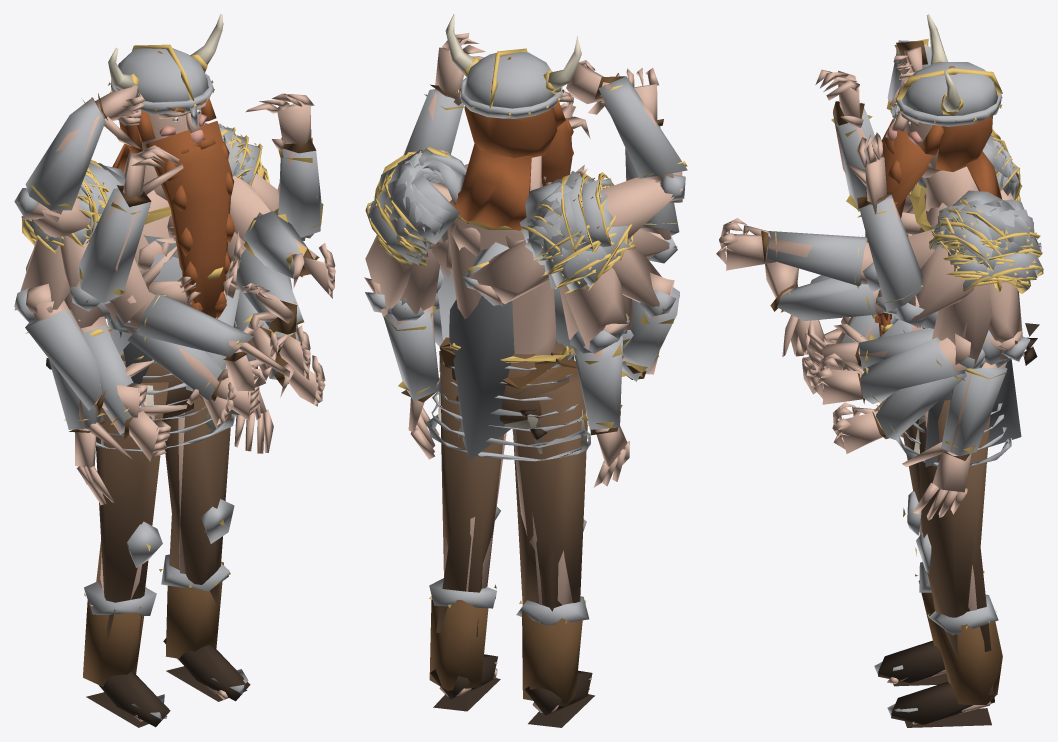
Rendered from dwarf_heavy.glb.
3 views of the same model, side by side, from view 1: azimuth 30°, elevation 25°; view 2: azimuth 150°, elevation 25°; view 3: azimuth 270°, elevation 25° (orthographic). The views are drawn at different scales.
Visible parts, largest first — view 1: B_6d, B_7d, B_0d, B_9d, R.cast_32d, R.raised_20d, R.staffR_28d, R.xbowR_40d, L.cast_68d, B_5d, R.staffR_26d, L.bowArm_56d (+36 smaller); view 2: B_6d, B_7d, B_5d, B_0d, B_9d, B_1d, R.raised_20d, L.rest_48d, R.rest_12d, L.carry_77d, R.raised_21d, R.carry_42d (+25 smaller); view 3: B_7d, B_6d, B_0d, B_9d, L.cast_68d, L.bowArm_56d, L.shield_52d, B_5d, L.rest_48d, L.xbowL_64d, L.shield_50d, L.carry_77d (+25 smaller).
Boxes of the visible parts, box(x1,y1,x2,y2) form: B_6d: box(96, 356, 234, 642); B_7d: box(83, 554, 250, 727); B_0d: box(112, 51, 235, 318); B_9d: box(108, 14, 223, 126); R.cast_32d: box(69, 185, 151, 311); R.raised_20d: box(14, 93, 107, 217); R.staffR_28d: box(14, 288, 106, 414); R.xbowR_40d: box(116, 293, 253, 361); L.cast_68d: box(274, 137, 323, 238); B_5d: box(96, 206, 240, 452); R.staffR_26d: box(14, 239, 100, 396); L.bowArm_56d: box(243, 211, 319, 278); B_6d: box(436, 343, 587, 636); B_7d: box(429, 578, 594, 727); B_5d: box(427, 215, 590, 461); B_0d: box(450, 57, 573, 230); B_9d: box(445, 14, 581, 118); B_1d: box(445, 216, 557, 355); R.raised_20d: box(595, 76, 687, 201); L.rest_48d: box(384, 300, 439, 402); R.rest_12d: box(569, 331, 622, 435); L.carry_77d: box(365, 155, 459, 263); R.raised_21d: box(525, 172, 614, 264); R.carry_42d: box(562, 267, 628, 349); B_7d: box(874, 562, 1002, 727); B_6d: box(903, 400, 991, 658); B_0d: box(865, 66, 1001, 335); B_9d: box(893, 14, 1002, 126); L.cast_68d: box(857, 192, 927, 327); L.bowArm_56d: box(761, 230, 880, 292); L.shield_52d: box(857, 337, 985, 403); B_5d: box(896, 184, 1021, 466); L.rest_48d: box(940, 358, 1010, 460); L.xbowL_64d: box(770, 277, 897, 321); L.shield_50d: box(863, 284, 992, 393); L.carry_77d: box(931, 199, 1043, 291).
Bounding box in the file's own units: 0.6619 × 1.42 × 0.638.
